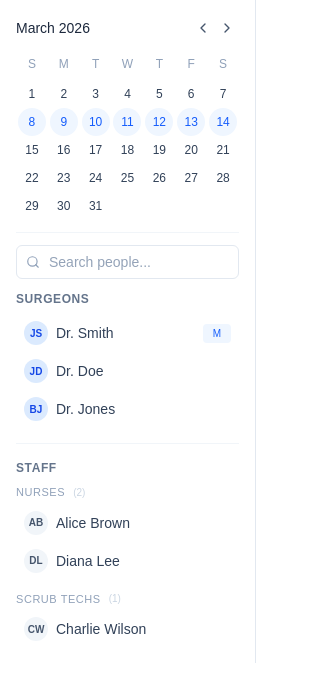
RoomScheduleSidebar › search filtering › filters surgeons by search query
The image size is (320, 680).
In the field with placeholder "Search people...": (128, 262) x1=16 y1=245 x2=239 y2=279, type "Smith"
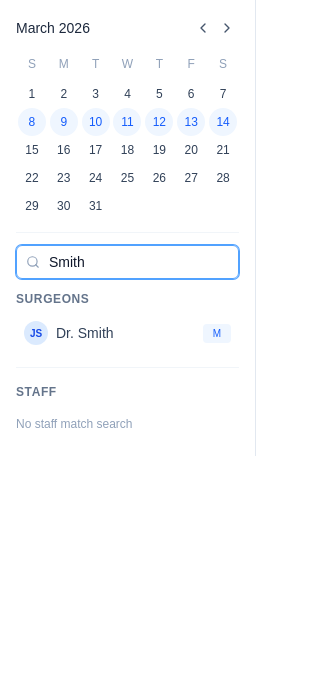
Expected: the text "Dr. Smith" is shown, x1=56 y1=325 x2=114 y2=341
Result: the button "Dr. Doe" is gone
Result: the button "Dr. Jones" is gone
